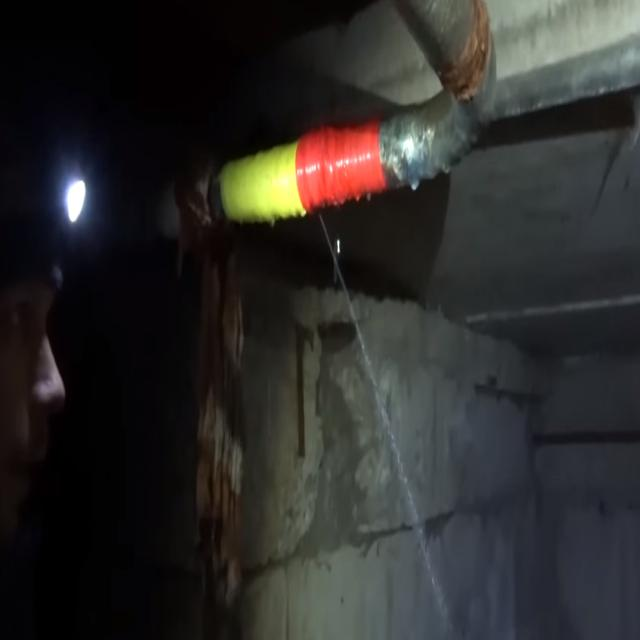leak: (319, 214, 452, 635)
